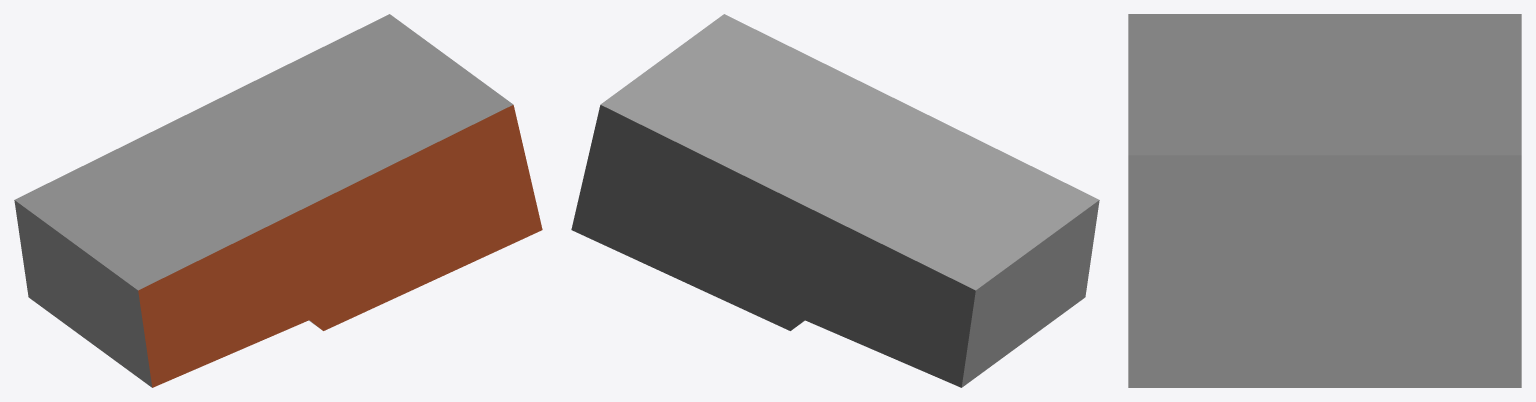
File: construction_0193_assumed_A_Casa_h6m.obj
The picture shows the model from 3 angles, left to right: view 1: azimuth 30°, elevation 25°; view 2: azimuth 150°, elevation 25°; view 3: azimuth 270°, elevation 25°; orthographic projection. The views are drawn at different scales.
Parts seen in each view (by area): view 1: construction_0193_assumed_A_Casa; view 2: construction_0193_assumed_A_Casa; view 3: construction_0193_assumed_A_Casa.
Boxes of the visible parts, bbox=[...] form: construction_0193_assumed_A_Casa: bbox=[14, 14, 542, 387]; construction_0193_assumed_A_Casa: bbox=[571, 14, 1099, 387]; construction_0193_assumed_A_Casa: bbox=[1128, 14, 1521, 387].
Bounding box in the file's own units: 11.32 × 5.22 × 6.
